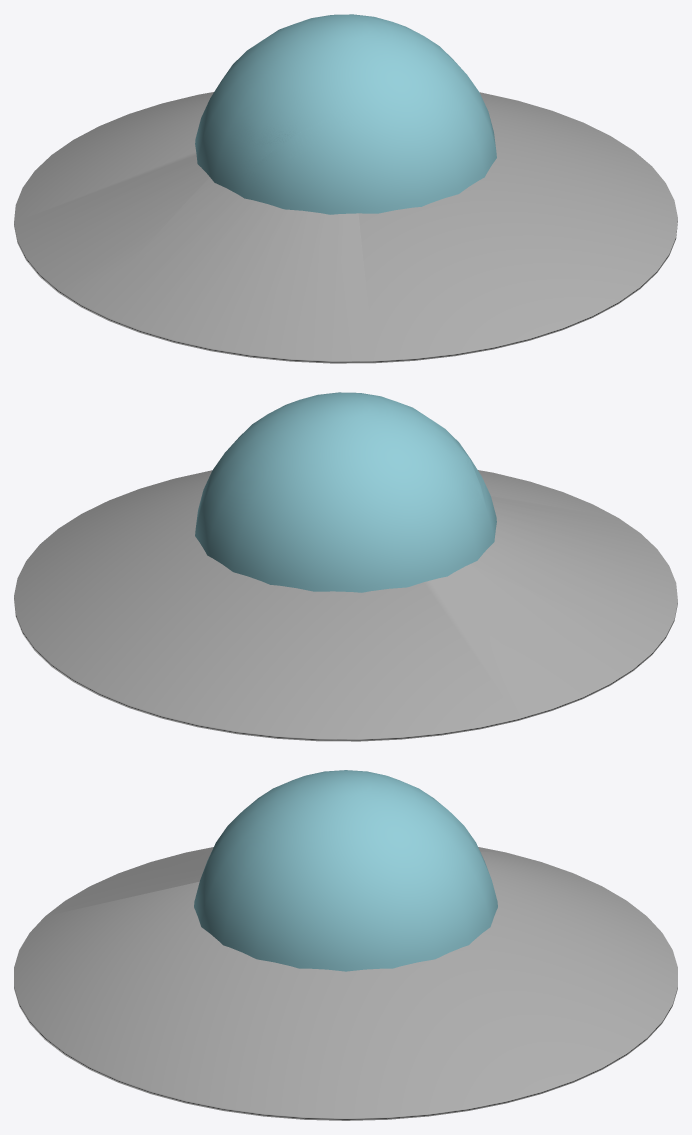
The model's file is ufofbx.fbx.
3 renders of one model, top to bottom at view 1: azimuth 30°, elevation 25°; view 2: azimuth 150°, elevation 25°; view 3: azimuth 270°, elevation 25°, orthographic.
Parts seen in each view (by area): view 1: pCylinder1, pSphere1; view 2: pCylinder1, pSphere1; view 3: pCylinder1, pSphere1.
Part boxes in pixels (bbox=[...]): pCylinder1: bbox=[14, 92, 677, 363]; pSphere1: bbox=[195, 14, 496, 214]; pCylinder1: bbox=[14, 470, 677, 741]; pSphere1: bbox=[195, 392, 496, 592]; pCylinder1: bbox=[14, 847, 677, 1120]; pSphere1: bbox=[194, 770, 497, 971].
Bounding box in the file's own units: 8.67 × 4.08 × 8.65.
